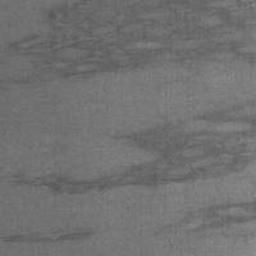Water spot: (12, 95, 256, 196), (0, 0, 256, 84), (152, 200, 256, 237), (0, 225, 97, 246)
